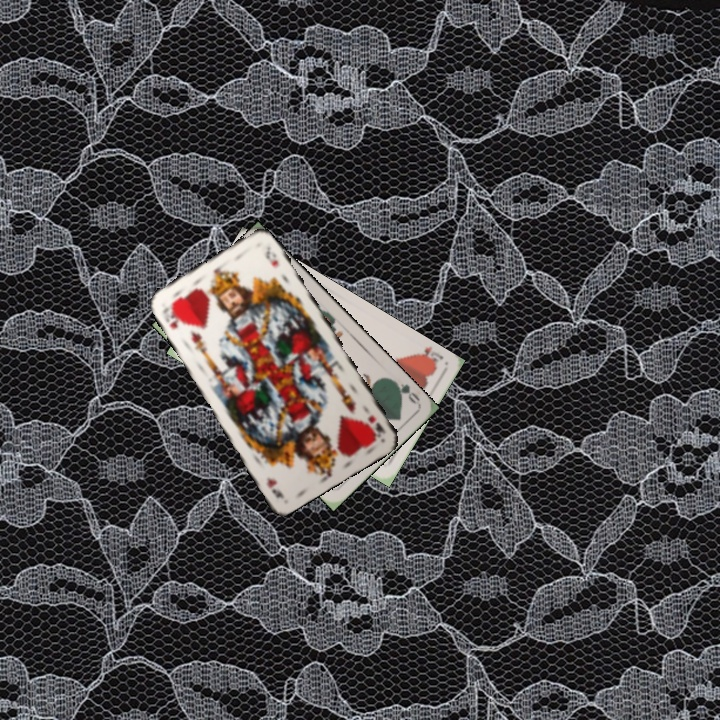GO: (388, 376, 422, 407)
HK: (158, 301, 187, 332), (364, 411, 388, 440)
HO: (410, 343, 446, 370)
